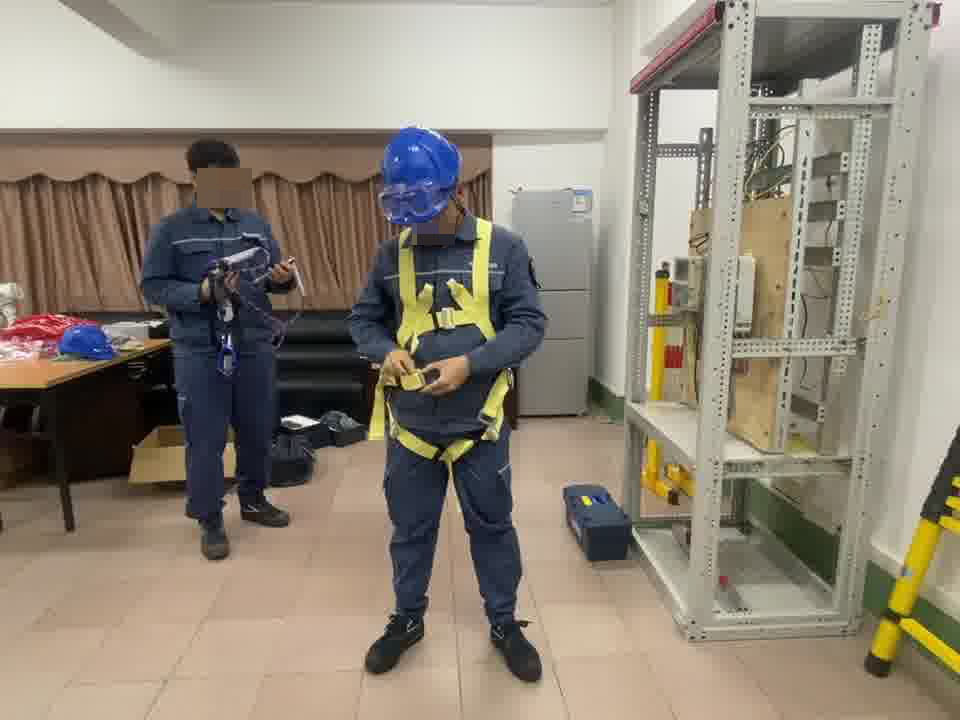downsuit: (381, 391, 530, 622), (174, 357, 276, 511)
halt: (379, 127, 464, 231)
hand: (416, 351, 466, 394), (371, 346, 415, 382), (199, 271, 237, 301), (266, 258, 293, 284)
inear: (445, 177, 471, 215)
noear: (185, 171, 206, 194)
person: (351, 126, 549, 673), (142, 141, 303, 550)
safebelt: (363, 212, 523, 467)
unhalt: (187, 141, 246, 208)
upsuit: (353, 210, 546, 405), (151, 205, 284, 340)
